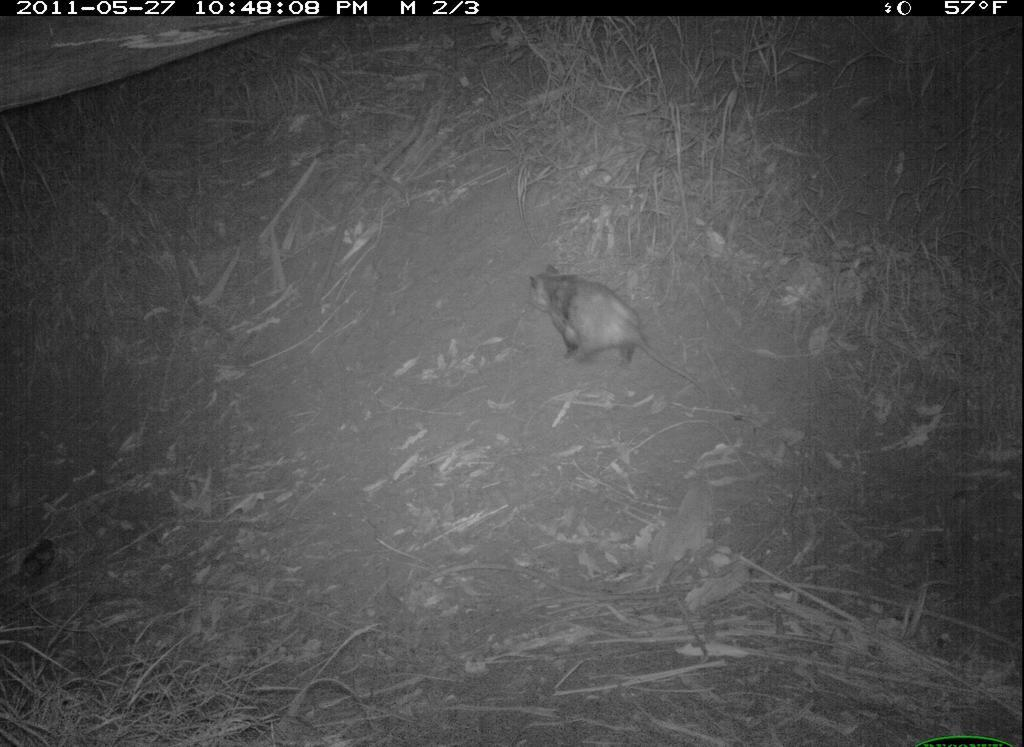opossum: (524, 263, 715, 400)
